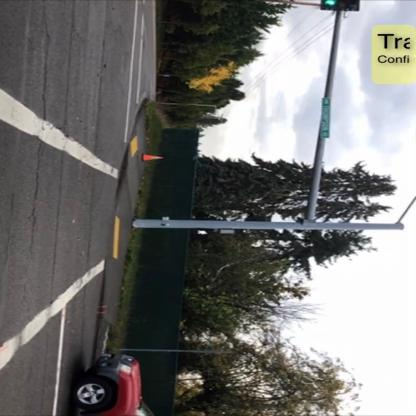Walk: (192, 228, 213, 242)
